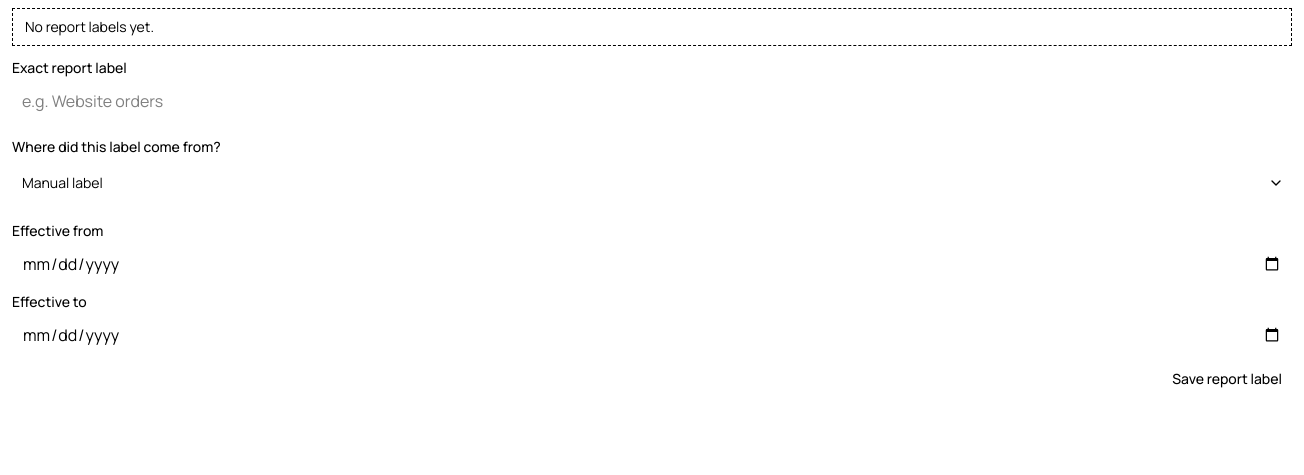
it: ChannelReportLabelForm (D08) › makes a single request after an ambiguous network failure
The image size is (1304, 475).
In the field labelled "Exact report label": [652, 101] box top-left (12, 85), bottom-right (1292, 117), type "Unsent label"
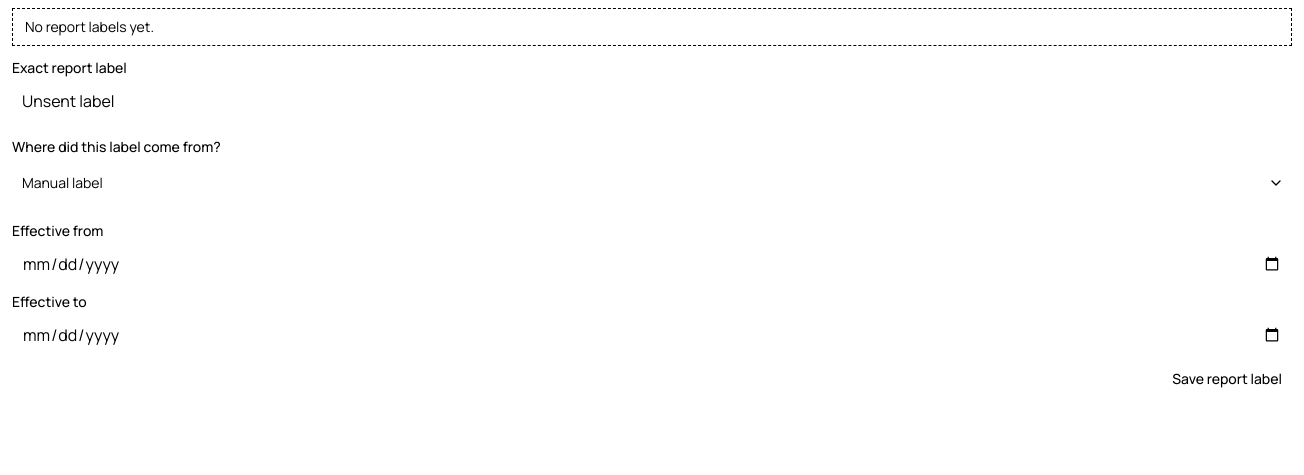
Click the button "Save report label": [1227, 379] box top-left (1162, 363), bottom-right (1292, 395)
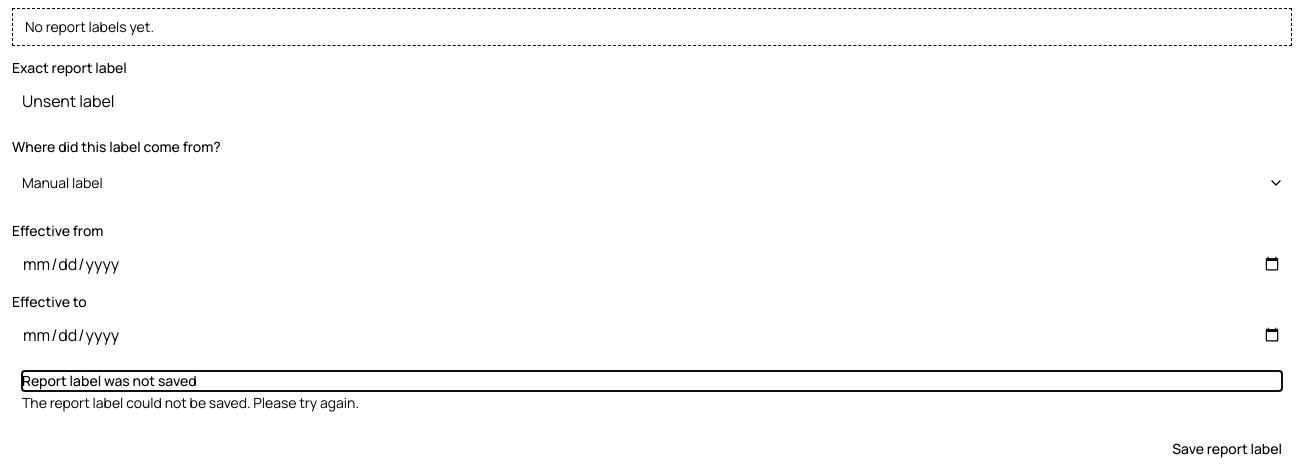
Expected: the text "Report label was not saved" is shown, top-left (22, 371), bottom-right (197, 390)
Expected: the text "The report label could not be saved. Please try again." is shown, top-left (22, 393), bottom-right (359, 412)
